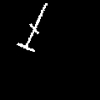double_crochet: (17, 3, 46, 51)
